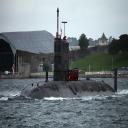submarine: (16, 41, 123, 101)
